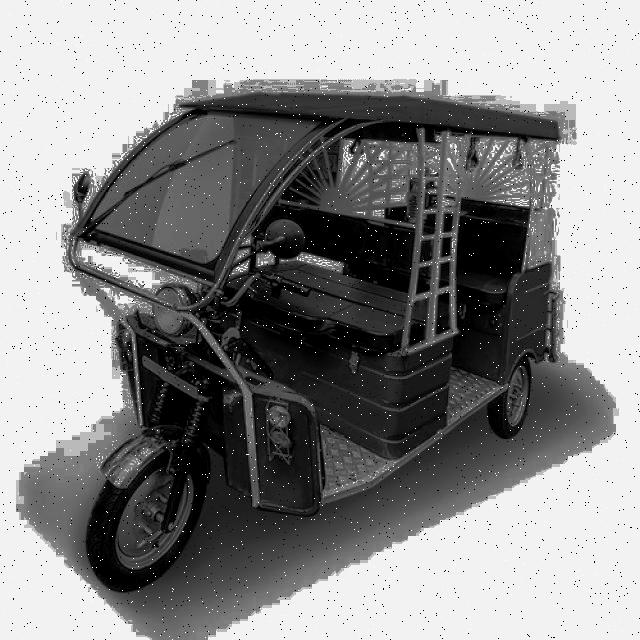Toto: (76, 85, 560, 593)
